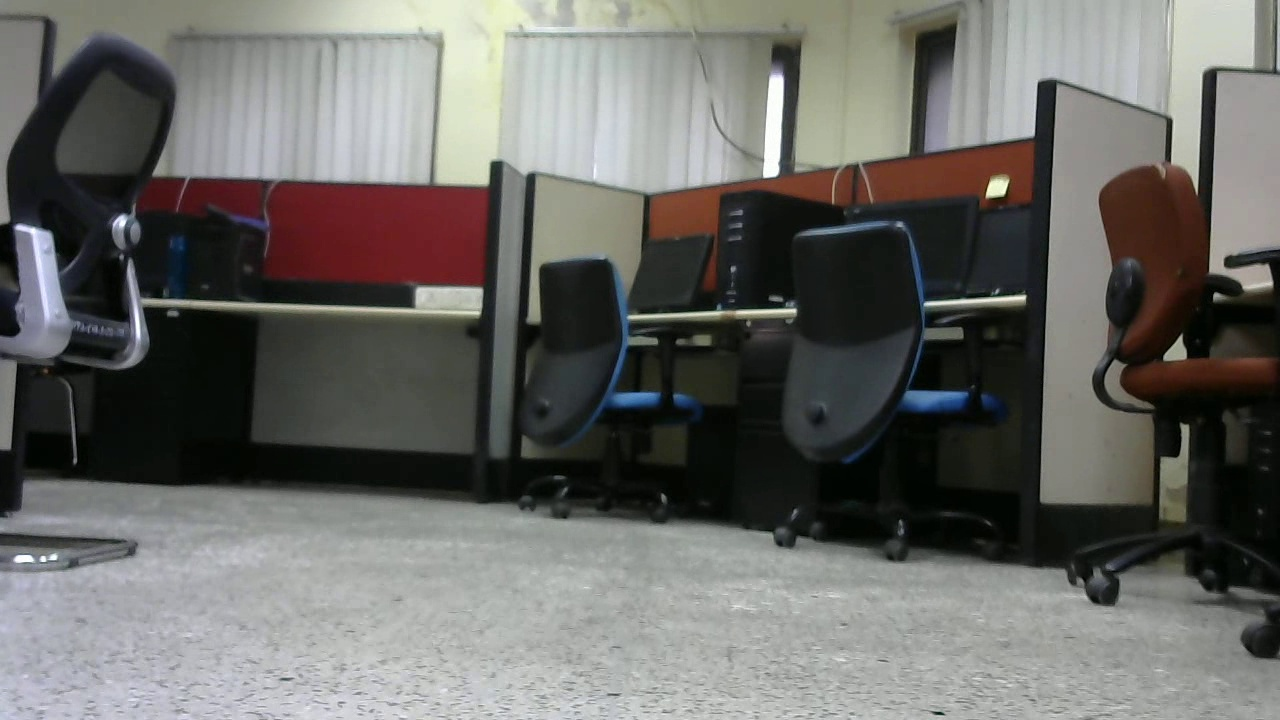chair: (1, 25, 198, 563), (1068, 161, 1280, 606), (768, 219, 1020, 570), (502, 254, 706, 521)
